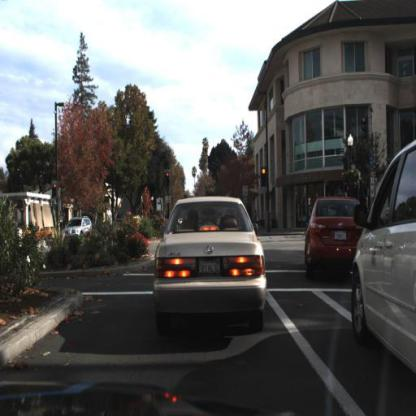car: (335, 127, 416, 386), (149, 195, 268, 341), (301, 191, 368, 296), (65, 215, 96, 240)
pedestrian: (251, 206, 261, 237), (253, 209, 259, 234)
trafficLight-Red: (51, 184, 59, 202), (262, 167, 268, 188), (166, 171, 171, 189)
